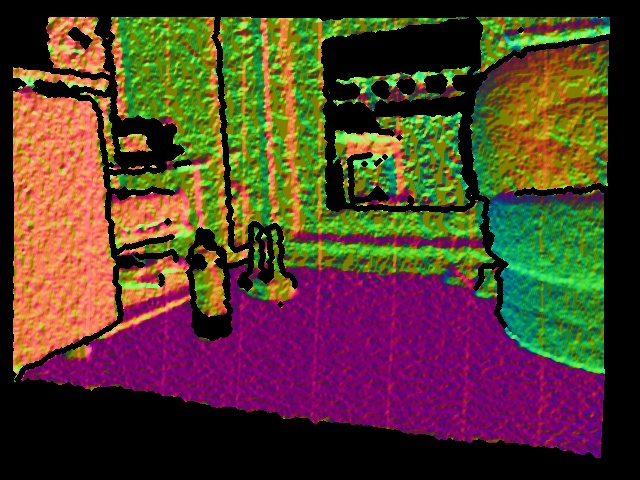station: (240, 223, 297, 302)
